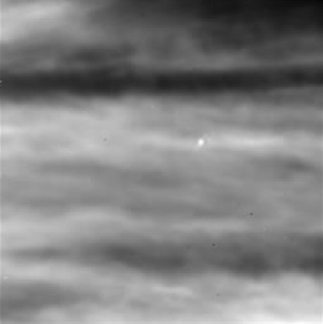Target: (199, 140, 203, 145)
